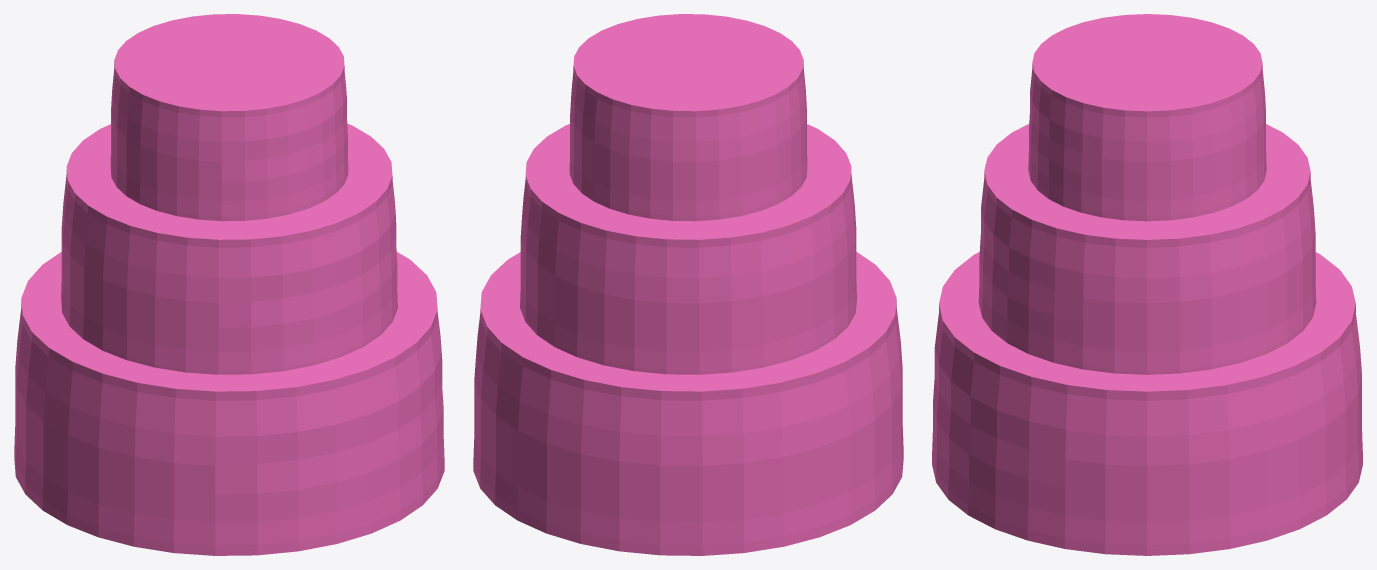
3 views of the same model, side by side, from view 1: azimuth 30°, elevation 25°; view 2: azimuth 150°, elevation 25°; view 3: azimuth 270°, elevation 25° (orthographic).
Visible parts, largest first — view 1: Cylinder, Cylinder.001, Cylinder.002; view 2: Cylinder, Cylinder.001, Cylinder.002; view 3: Cylinder, Cylinder.001, Cylinder.002.
Boxes of the visible parts, bbox=[...] form: Cylinder: bbox=[14, 252, 444, 555]; Cylinder.001: bbox=[61, 123, 397, 374]; Cylinder.002: bbox=[110, 14, 348, 221]; Cylinder: bbox=[473, 252, 903, 555]; Cylinder.001: bbox=[520, 124, 856, 374]; Cylinder.002: bbox=[569, 14, 807, 221]; Cylinder: bbox=[932, 252, 1362, 555]; Cylinder.001: bbox=[978, 124, 1316, 374]; Cylinder.002: bbox=[1028, 14, 1266, 221].
Size of the model in its own units: 1.81 by 1.87 by 1.81.
